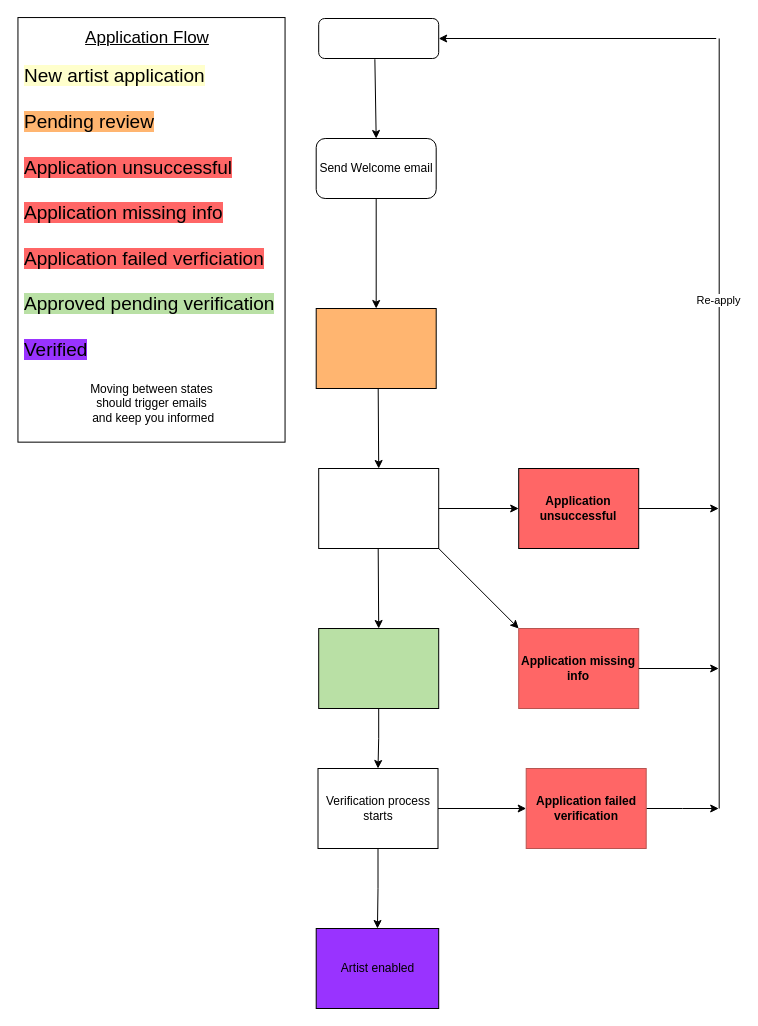
This 758x1026 diagram has some shape labels left out. The shapes that lost their labels are listed below. From the top down, each one's centre as x and y in pixels, then its label:
the point at 378,38: Artist applies
the point at 375,348: Pending Review
the point at 378,508: Review application
the point at 378,668: Approved pending verification
